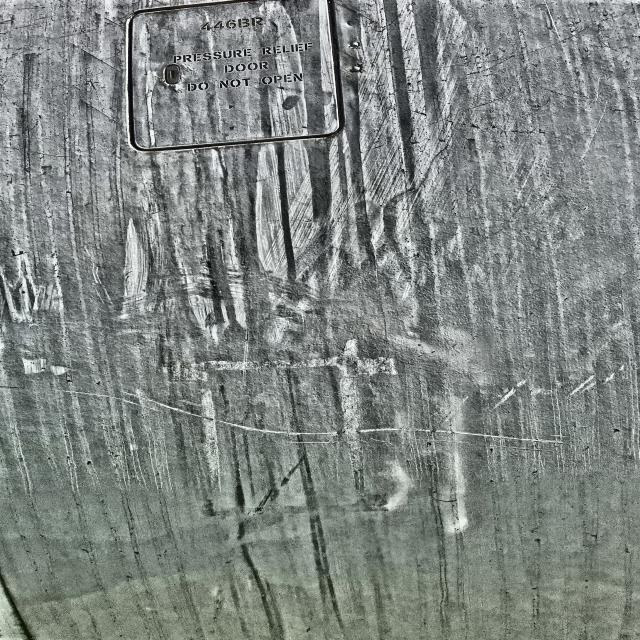crack: (358, 427, 583, 458)
